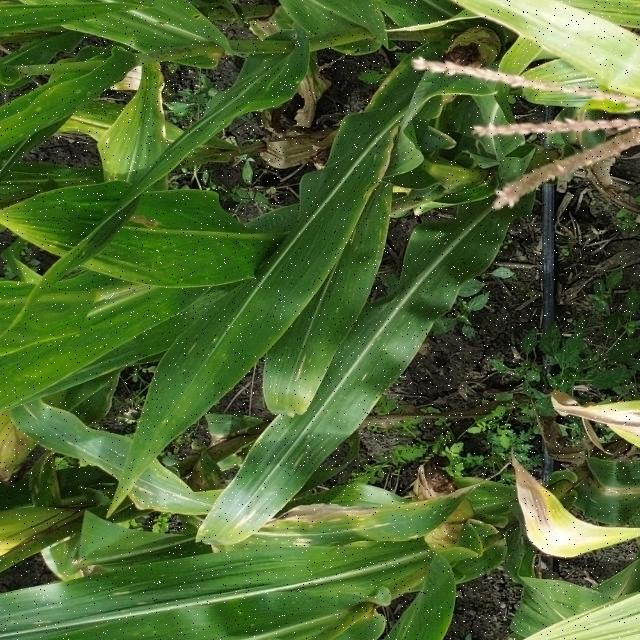gray-leaf-spot: (178, 334, 238, 406), (353, 193, 395, 259)
northern-leaf-blight: (530, 501, 596, 553), (592, 469, 640, 514), (596, 406, 640, 440)
southern-leaf-blight: (105, 230, 193, 286), (110, 452, 190, 510), (103, 5, 211, 46), (272, 516, 389, 548), (41, 322, 116, 370), (525, 63, 594, 107), (26, 85, 91, 124), (225, 72, 300, 102), (200, 506, 252, 541), (98, 134, 131, 188)
